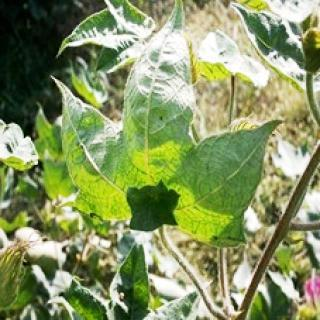curl: (59, 19, 271, 226)
